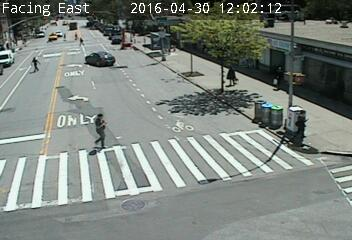neg: (48, 73, 85, 122), (110, 49, 141, 90), (260, 96, 291, 137), (161, 107, 188, 143), (47, 178, 72, 212), (176, 172, 201, 205), (10, 132, 33, 164), (162, 24, 184, 54), (212, 148, 231, 173), (302, 45, 320, 68), (109, 188, 125, 210)
pos: (85, 109, 118, 152), (295, 107, 322, 144), (227, 63, 246, 89), (29, 56, 44, 76), (77, 37, 85, 48)
